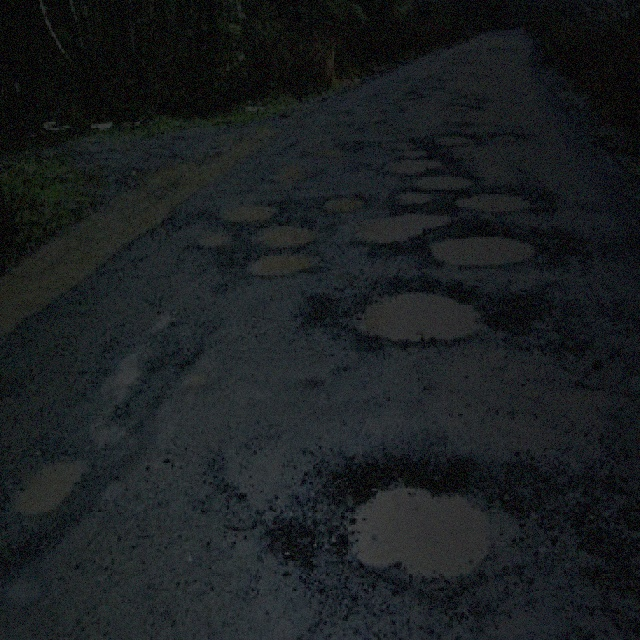pothole: (327, 454, 493, 584), (352, 286, 484, 343), (9, 450, 87, 514), (425, 232, 540, 264), (241, 248, 320, 278), (451, 188, 530, 213), (408, 171, 476, 192), (256, 222, 312, 247), (219, 198, 276, 220), (382, 156, 442, 173), (320, 192, 367, 211), (194, 226, 234, 245), (434, 130, 476, 147)
